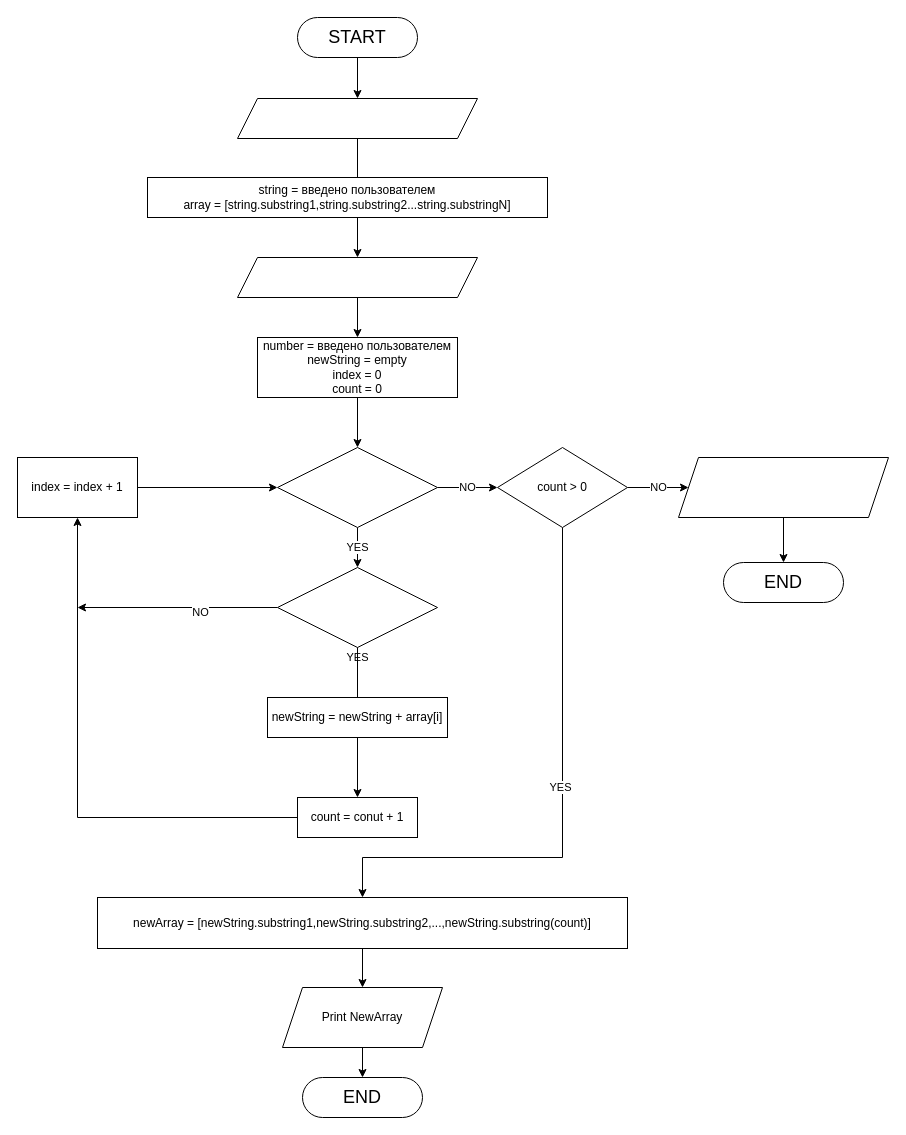
Some shapes in this 906 by 1135 pixel diagram are drawn without their labels. The centre of each missing label's shape, as x and y in pixels:
"array[i}<=number" goes at point 357,607.
"index< array.Length" goes at point 357,487.
"Ввод длины элемента массива с клавиатуры" goes at point 357,277.
"Ввод элементов массива через запятую с клавиатуры" goes at point 357,118.
"Вывод сообщения, что подходящих элементов нет" goes at point 783,487.
